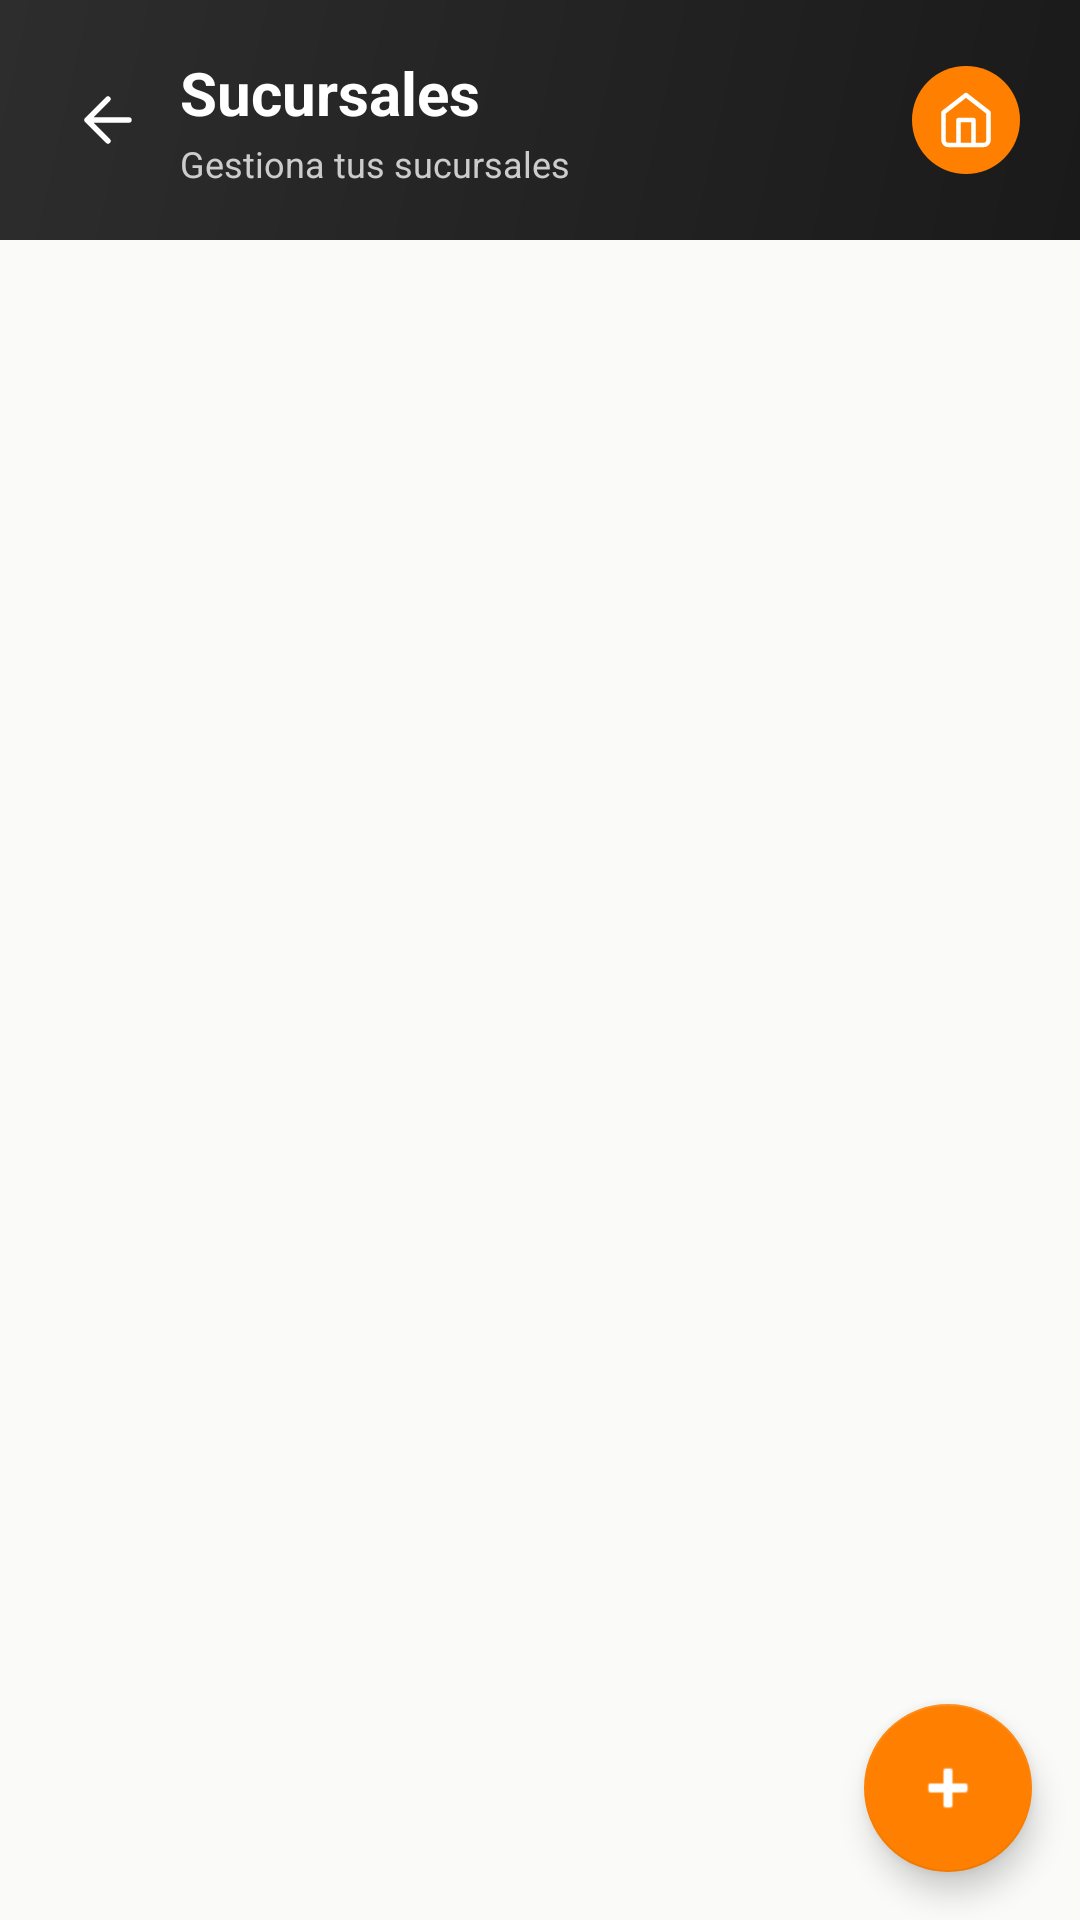

Screen size 1080×1920. Icon name, then its center in pixels as point (x, y):
Agregar sucursal: point (948, 1788)
Volver: point (108, 120)
